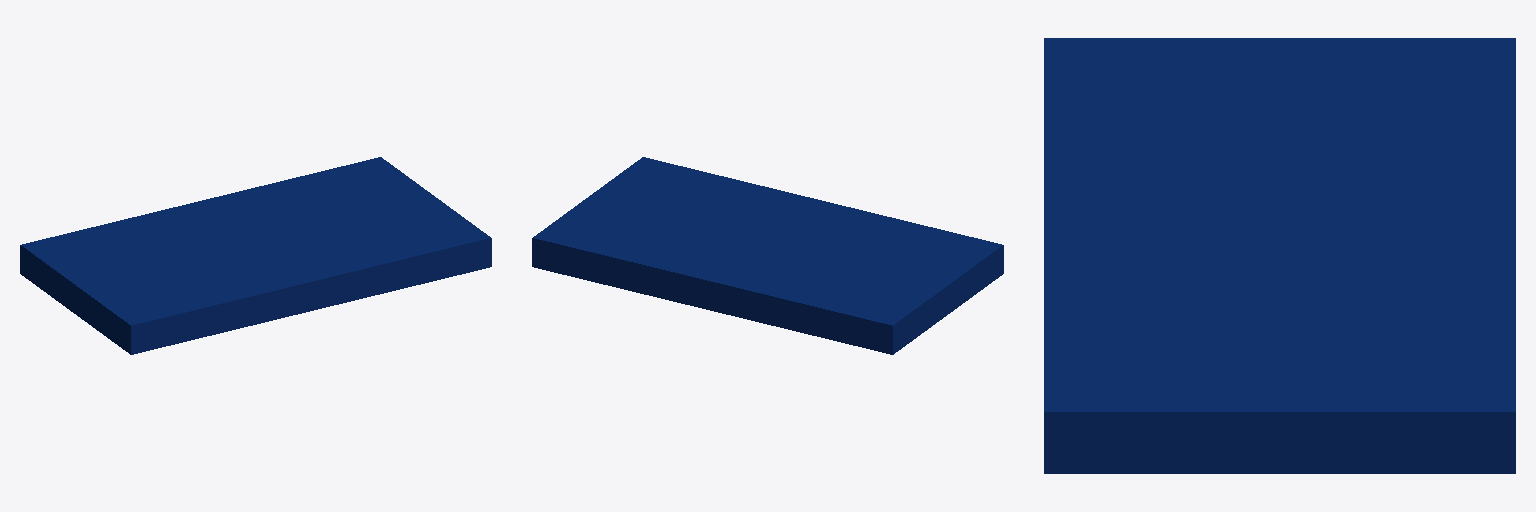
robot.urdf — vehicle:
<?xml version="1.0" ?>
<!-- =================================================================================== -->
<!-- |    This document was autogenerated by xacro from robot.xacro                    | -->
<!-- |    EDITING THIS FILE BY HAND IS NOT RECOMMENDED                                 | -->
<!-- =================================================================================== -->
<robot name="vehicle" xmlns:xacro="http://www.ros.org/wiki/xacro">
  <!-- Define algunos colores para ser usados en rviz y Gazebo -->
  <material name="grey">
    <color rgba="0.42 0.42 0.42 1"/>
  </material>
  <material name="dark_grey">
    <color rgba="0.22 0.22 0.22 1"/>
  </material>
  <material name="black">
    <color rgba="0.12 0.12 0.12 1"/>
  </material>
  <material name="blue">
    <color rgba="0.08 0.22 0.48 1"/>
  </material>
  <!-- Controladores ROS para Gazebo -->
  <gazebo>
    <plugin filename="libgazebo_ros_control.so" name="gazebo_ros_control">
      <robotNamespace>/vehicle</robotNamespace>
      <robotSimType>gazebo_ros_control/DefaultRobotHWSim</robotSimType>
      <legacyModeNS>true</legacyModeNS>
    </plugin>
  </gazebo>
  <!-- Dummy -->
  <link name="dummy_link"/>
  <!-- Chassis -->
  <link name="base_link">
    <inertial>
      <origin rpy="0 0 0" xyz="0 0 0"/>
      <mass value="130"/>
      <inertia ixx="15" ixy="0" ixz="0" iyy="52" iyz="0" izz="66"/>
    </inertial>
    <visual>
      <origin rpy="0 0 0" xyz="0 0 0.085"/>
      <geometry>
        <box size="2.186 1.162 0.17"/>
      </geometry>
      <material name="blue"/>
    </visual>
    <collision>
      <origin rpy="0 0 0" xyz="0 0 0.085"/>
      <geometry>
        <box size="2.186 1.162 0.17"/>
      </geometry>
    </collision>
  </link>
  <gazebo reference="base_link">
    <kp value="1000000"/>
    <kd value="1"/>
    <mu1 value="10"/>
    <mu2 value="10"/>
    <visual>
      <material>
        <ambient>0.00 0.16 0.42 1</ambient>
        <diffuse>0.04 0.20 0.46 1</diffuse>
        <specular>0.08 0.24 0.50 1</specular>
      </material>
    </visual>
  </gazebo>
  <joint name="dummy_joint" type="fixed">
    <parent link="dummy_link"/>
    <child link="base_link"/>
  </joint>
</robot>

--- Facts derived from the render (not from the file) ---
3 views of the same robot in one strip: view 1: azimuth 30°, elevation 25°; view 2: azimuth 150°, elevation 25°; view 3: azimuth 270°, elevation 25° (orthographic).
Model vehicle with 2 links and 1 joints (1 fixed), rooted at dummy_link, posed all joints at 0.
Links seen in each view (by area): view 1: base_link; view 2: base_link; view 3: base_link.
Link boxes in pixels (x1,y1,x2,y2): base_link: (20, 157, 491, 354); base_link: (532, 157, 1003, 354); base_link: (1044, 38, 1515, 473).
Size in the robot's own frame: 2.19 by 1.16 by 0.17 metres.
Geometry: primitives only (box / cylinder / sphere), no mesh files.